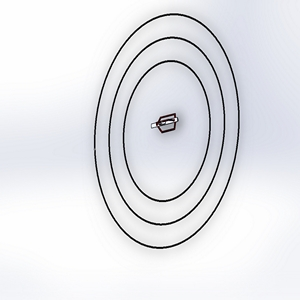circle: (88, 7, 246, 254)
submarine: (147, 106, 185, 140)
